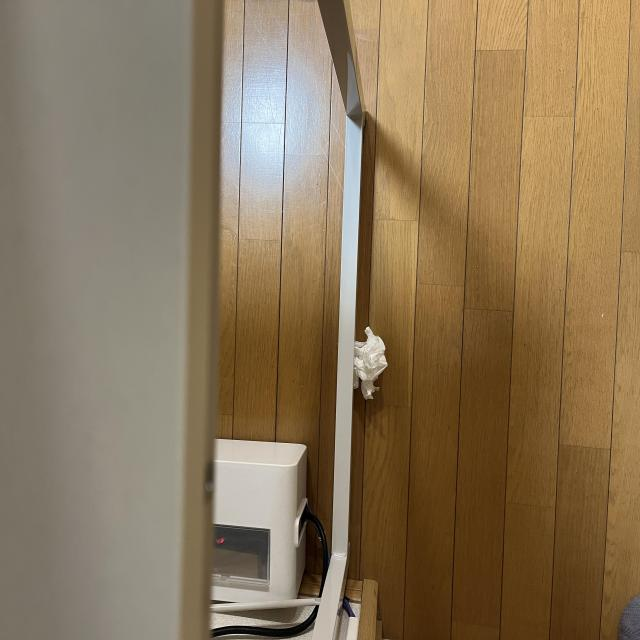衛生紙: (470, 244, 516, 300)
